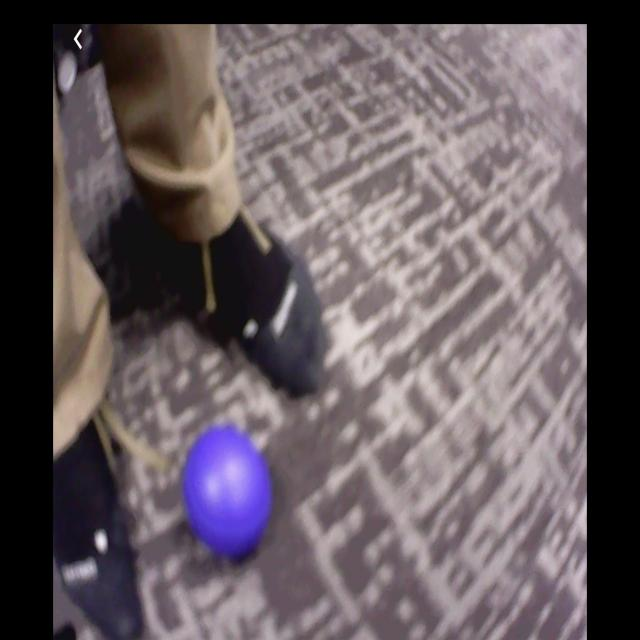ball: (184, 428, 275, 557)
